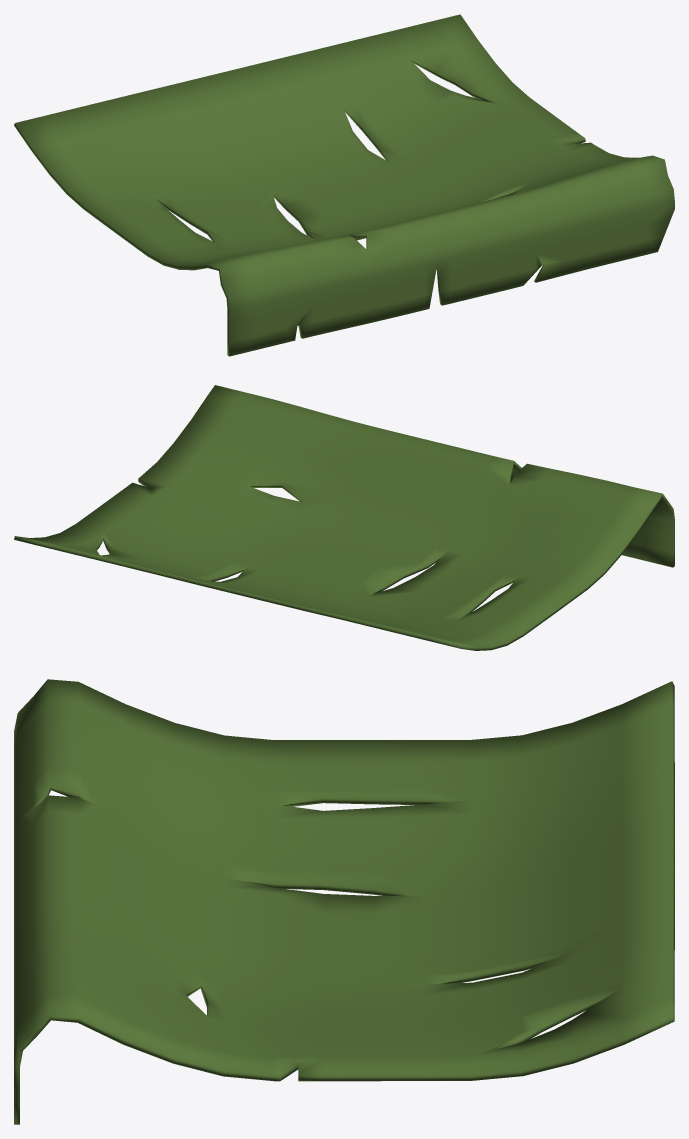
The model's file is Bazaar_Cloth.fbx.
3 renders of one model, top to bottom at view 1: azimuth 30°, elevation 25°; view 2: azimuth 150°, elevation 25°; view 3: azimuth 270°, elevation 25°, orthographic. The views are drawn at different scales.
Parts seen in each view (by area): view 1: Cloth; view 2: Cloth; view 3: Cloth.
Part boxes in pixels (x1,y1,x2,y2): Cloth: (14, 14, 674, 356); Cloth: (14, 385, 674, 650); Cloth: (14, 679, 674, 1124).
Size of the model in its own units: 723 by 125 by 596.
